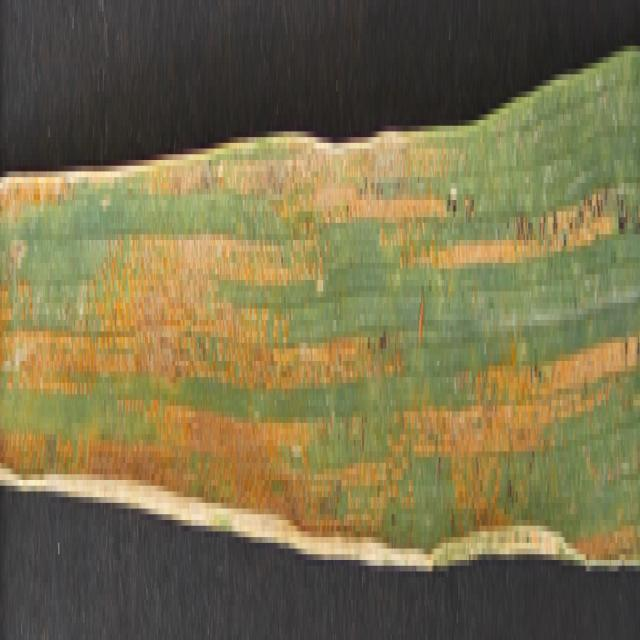leaf rust: (1, 125, 638, 526)
